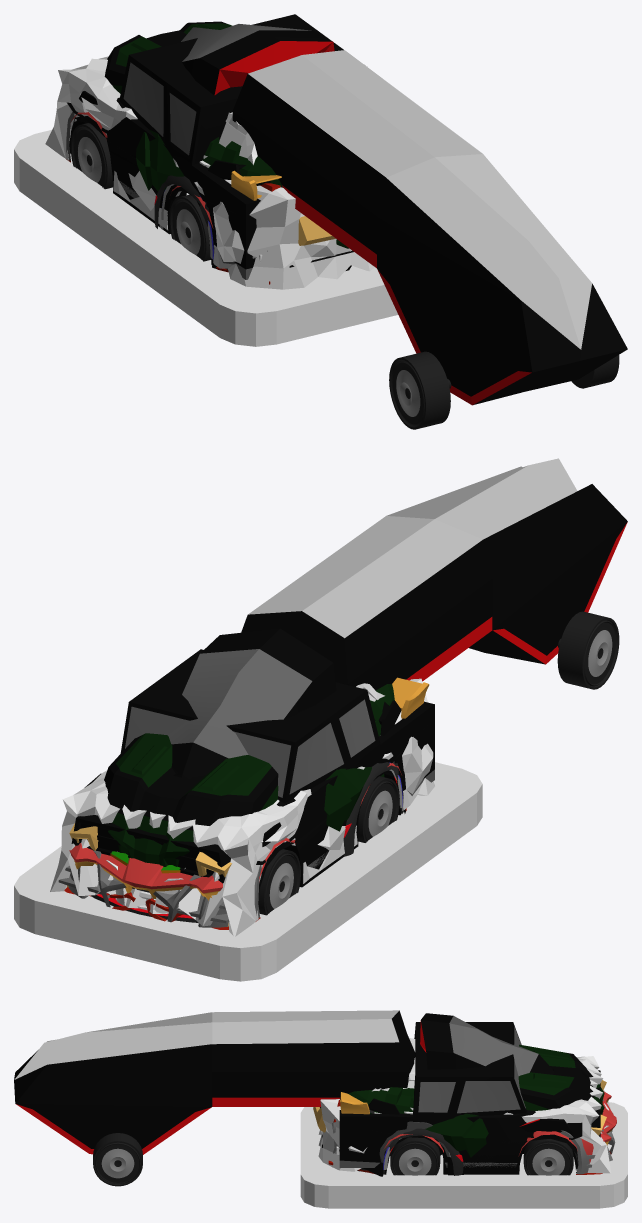
Rendered from Cars.fbx.
The picture shows the model from 3 angles, top to bottom: view 1: azimuth 30°, elevation 25°; view 2: azimuth 150°, elevation 25°; view 3: azimuth 270°, elevation 25°; orthographic projection. The views are drawn at different scales.
Parts seen in each view (by area): view 1: SuperTruck X52 Trailer, CarBaseOutline, SupercarMammot, CustomIceWave, SuperTruck X52, SupercarBigBang, Wheels 1.001, Wheels 1, Wheels 2, SupercarShock, SupercarThermo, SupercarSkull2 (+1 smaller); view 2: SuperTruck X52 Trailer, CarBaseOutline, SupercarMammot, SupercarBigBang, CustomIceWave, SuperTruck X52, SupercarThermo, Wheels 1.001, SupercarBoson/Kourai, SupercarDynamo, SupercarSkull2, Wheels 2 (+2 smaller); view 3: SuperTruck X52 Trailer, CarBaseOutline, SupercarMammot, SupercarBigBang, SuperTruck X52, CustomIceWave, Wheels 1.001, Wheels 2, Wheels 1, SupercarThermo, SupercarShock, SupercarSkull2 (+3 smaller).
Boxes of the visible parts, x1,y1,x2,y2 form: SuperTruck X52 Trailer: (232, 50, 627, 405); CarBaseOutline: (14, 130, 398, 346); SupercarMammot: (67, 14, 343, 279); CustomIceWave: (45, 56, 374, 289); SuperTruck X52: (79, 24, 353, 267); SupercarBigBang: (104, 21, 348, 248); Wheels 1.001: (389, 351, 619, 429); Wheels 1: (70, 123, 112, 189); Wheels 2: (169, 194, 210, 261); SupercarShock: (69, 117, 238, 265); SupercarThermo: (70, 112, 281, 228); SupercarSkull2: (154, 155, 228, 270); SuperTruck X52 Trailer: (241, 458, 627, 690); CarBaseOutline: (14, 762, 482, 981); SupercarMammot: (120, 649, 434, 868); SupercarBigBang: (67, 684, 394, 926); CustomIceWave: (50, 678, 434, 936); SuperTruck X52: (84, 628, 336, 846); SupercarThermo: (69, 677, 429, 900); Wheels 1.001: (557, 611, 619, 689); SupercarBoson/Kourai: (58, 762, 406, 929); SupercarDynamo: (71, 774, 385, 883); SupercarSkull2: (91, 762, 403, 922); Wheels 2: (358, 776, 399, 842); SuperTruck X52 Trailer: (14, 1010, 415, 1154); CarBaseOutline: (300, 1102, 627, 1208); SupercarMammot: (339, 1022, 582, 1167); SupercarBigBang: (313, 1044, 606, 1157); SuperTruck X52: (322, 1013, 578, 1168); CustomIceWave: (318, 1038, 612, 1173); Wheels 1.001: (93, 1133, 142, 1186); Wheels 2: (390, 1137, 440, 1175); Wheels 1: (523, 1139, 573, 1175); SupercarThermo: (340, 1091, 616, 1163); SupercarShock: (357, 1129, 578, 1174); SupercarSkull2: (360, 1103, 609, 1175).
Size of the model in its own units: 5.18 by 4.2 by 15.86.
